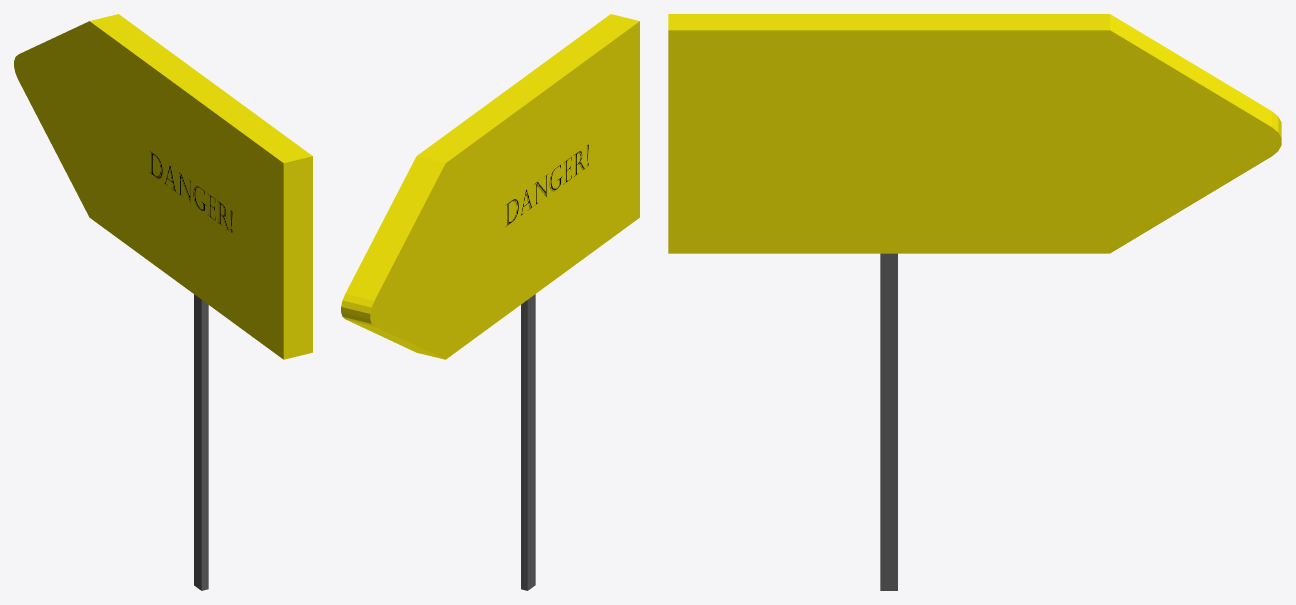
3 renders of one model, left to right at view 1: azimuth 30°, elevation 25°; view 2: azimuth 150°, elevation 25°; view 3: azimuth 270°, elevation 25°, orthographic. The views are drawn at different scales.
Parts seen in each view (by area): view 1: Cube; view 2: Cube; view 3: Cube.
Boxes of the visible parts, <box> form: Cube: <box>14,14,312,590</box>; Cube: <box>341,14,639,590</box>; Cube: <box>668,14,1281,590</box>.
Size of the model in its own units: 17.34 by 283 by 278.
2 materials, 1 textured.
